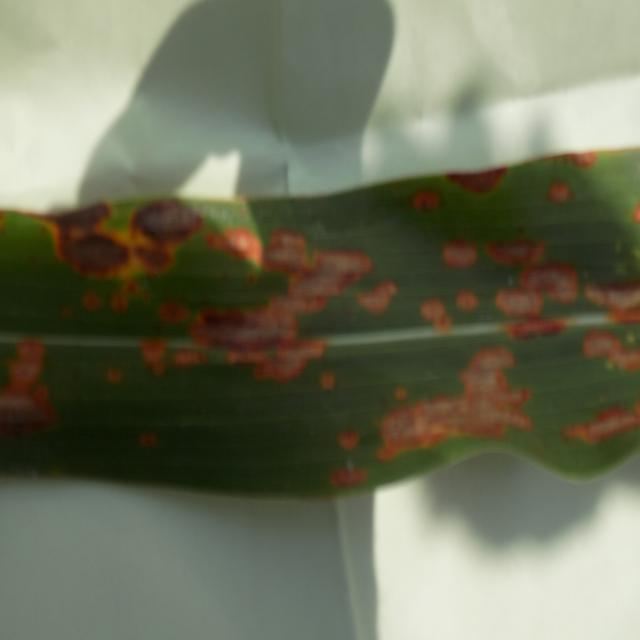millet_rust: (0, 143, 640, 500)
